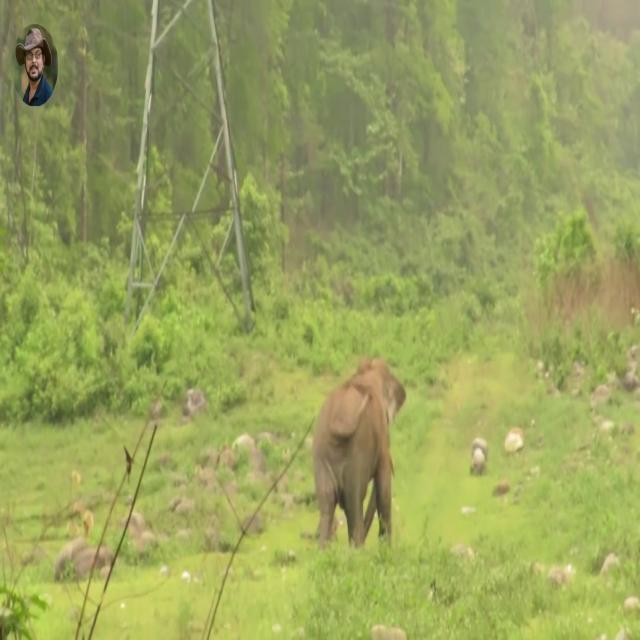Elephant: (312, 355, 406, 551)
person: (15, 26, 55, 106)
